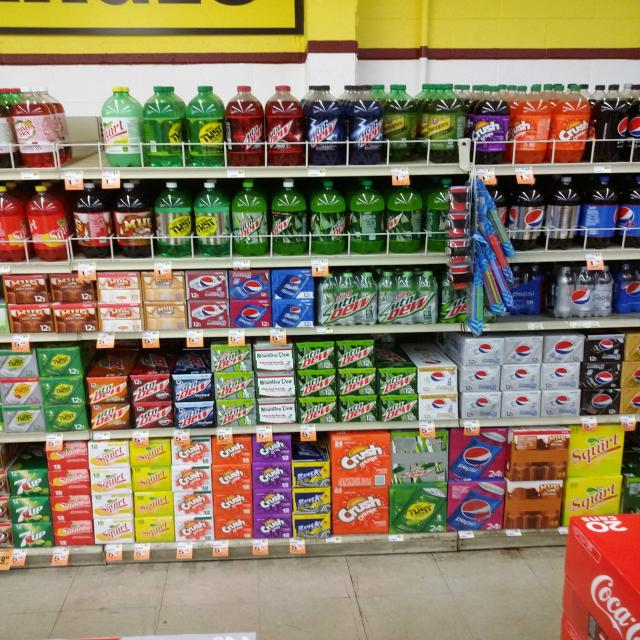empty: (64, 90, 102, 176)
